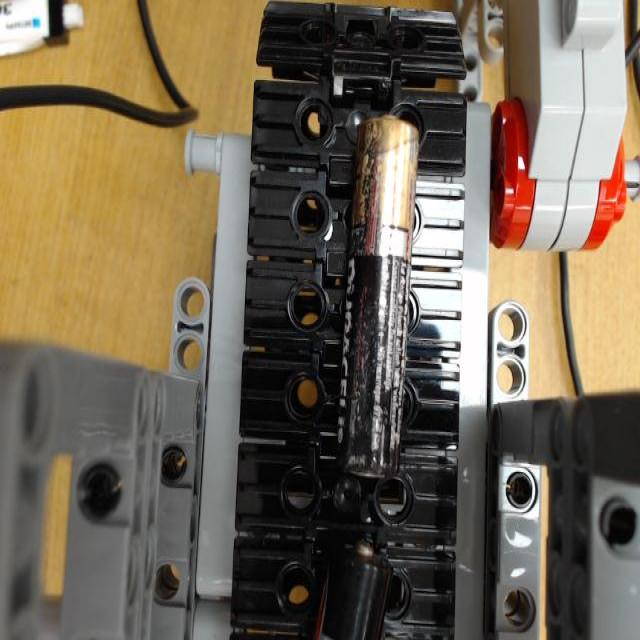AAA: (328, 111, 416, 486)
